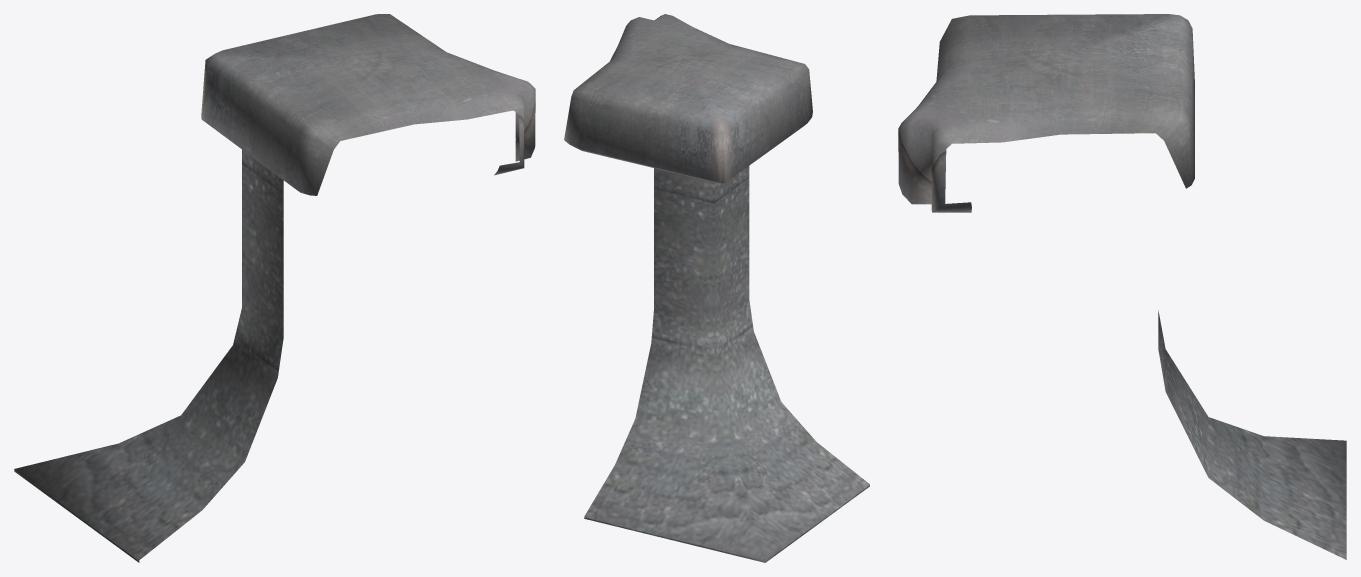
Rendered from SM_Roof_Edge_Flashing_Corner_02.glb.
3 views of the same model, side by side, from view 1: azimuth 30°, elevation 25°; view 2: azimuth 150°, elevation 25°; view 3: azimuth 270°, elevation 25° (orthographic). The views are drawn at different scales.
Visible parts, largest first — view 1: SM_Roof_Edge_Flashing_Corner_02; view 2: SM_Roof_Edge_Flashing_Corner_02; view 3: SM_Roof_Edge_Flashing_Corner_02.
Part boxes in pixels (box(x1,y1,x2,y2)): SM_Roof_Edge_Flashing_Corner_02: box(14, 14, 535, 562); SM_Roof_Edge_Flashing_Corner_02: box(564, 14, 869, 562); SM_Roof_Edge_Flashing_Corner_02: box(898, 14, 1346, 559).
Size of the model in its own units: 0.476 by 0.5949 by 0.476.
Materials: 2 (2 with a texture image).
